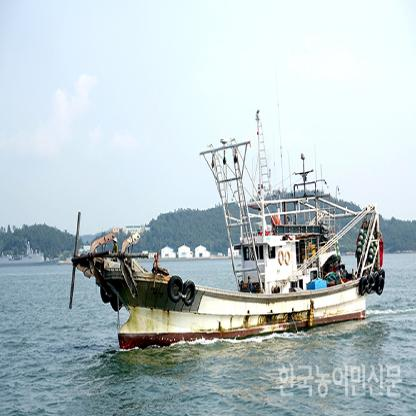fish-b: (64, 140, 388, 355)
